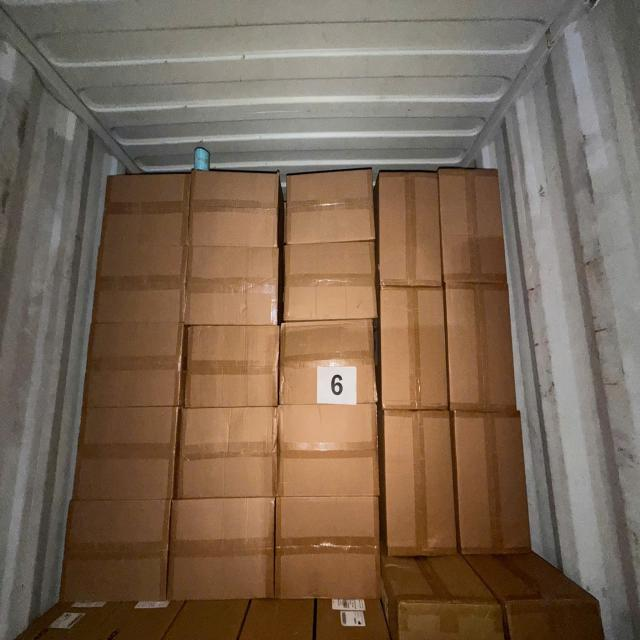Carton: (169, 497, 276, 603), (273, 496, 381, 601), (66, 500, 174, 605), (385, 409, 459, 559), (456, 413, 530, 557), (75, 406, 179, 504), (275, 403, 379, 498), (173, 404, 275, 498), (446, 284, 516, 412), (83, 327, 184, 414), (276, 323, 374, 412), (381, 287, 451, 410), (89, 242, 191, 326), (185, 329, 284, 413), (440, 166, 510, 283), (96, 168, 194, 248), (184, 245, 280, 326), (282, 244, 376, 325), (376, 170, 440, 287), (281, 164, 372, 242), (194, 166, 282, 244)
